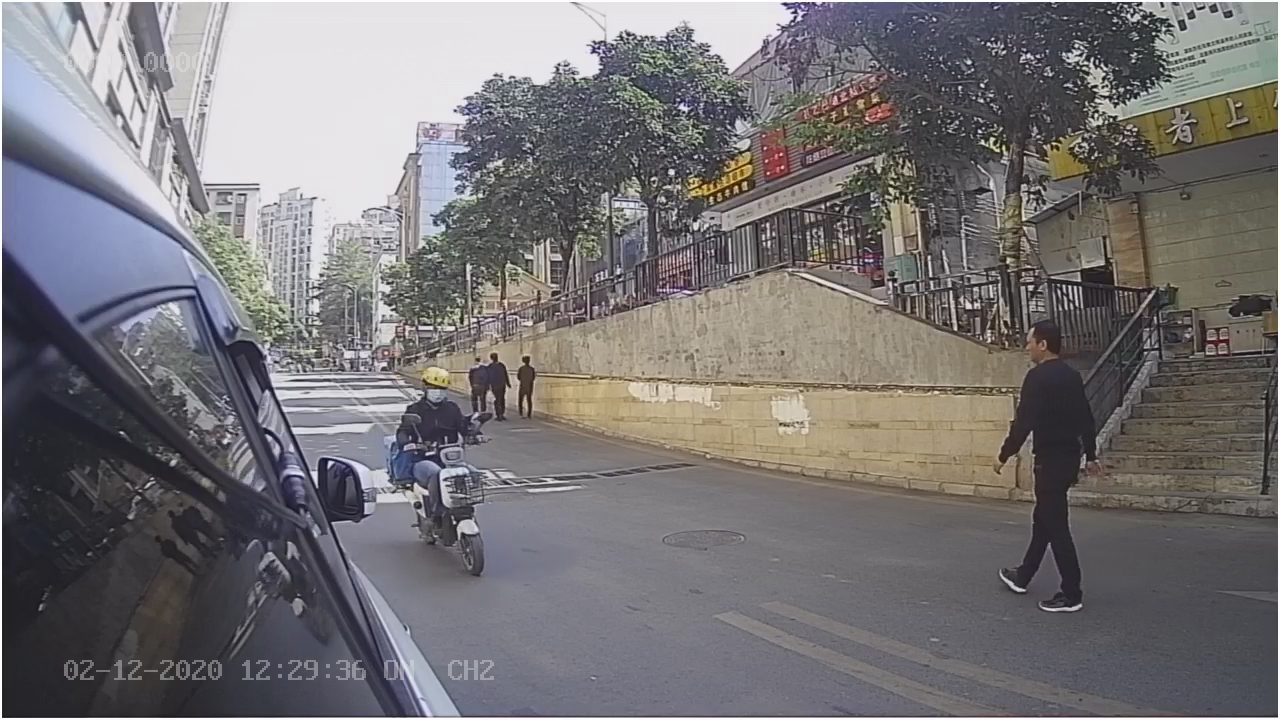person: (987, 316, 1108, 619)
